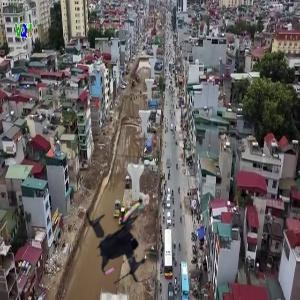drone: (77, 187, 180, 290)
